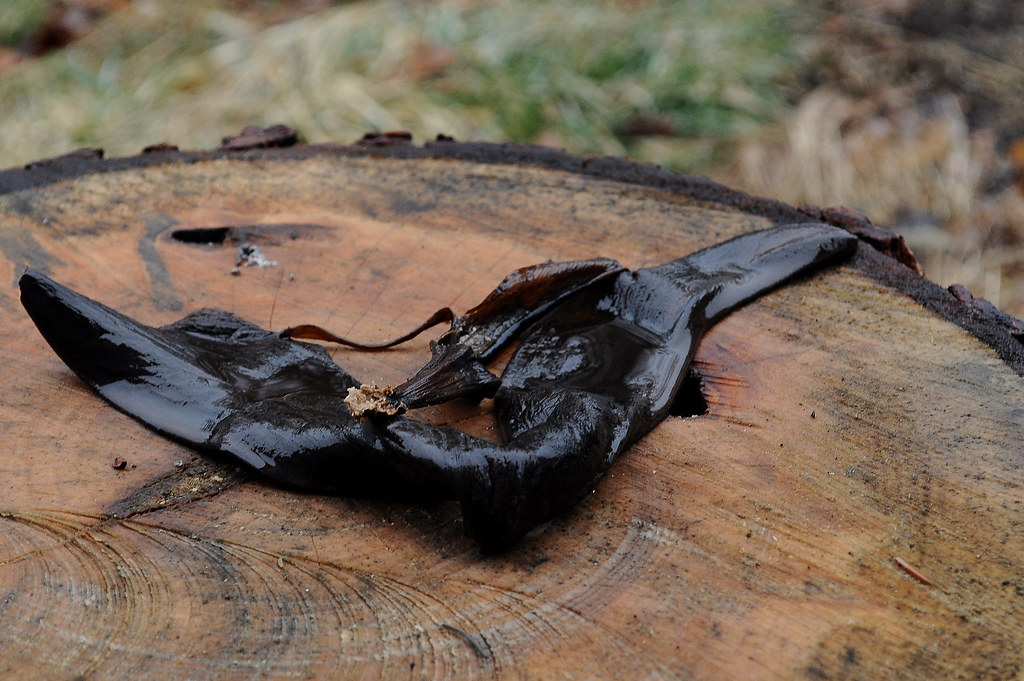looks_defective: (71, 148, 886, 582)
